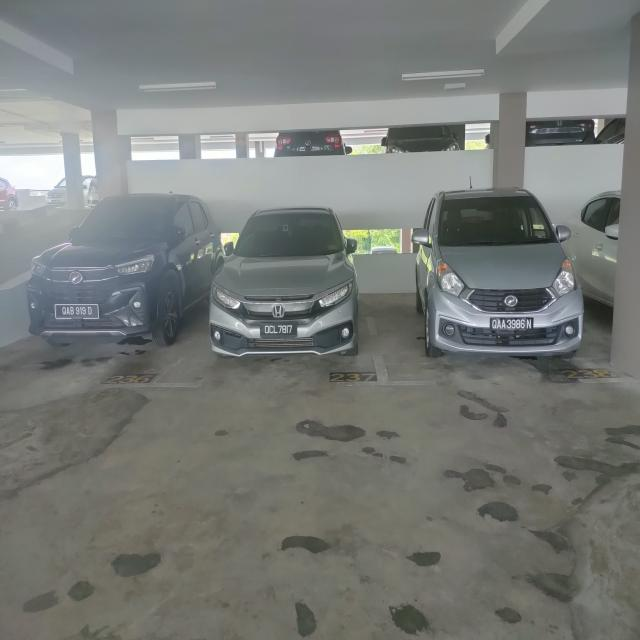PeroduaAtiva: (23, 182, 227, 348)
PeroduaMyvi: (401, 160, 596, 403)
